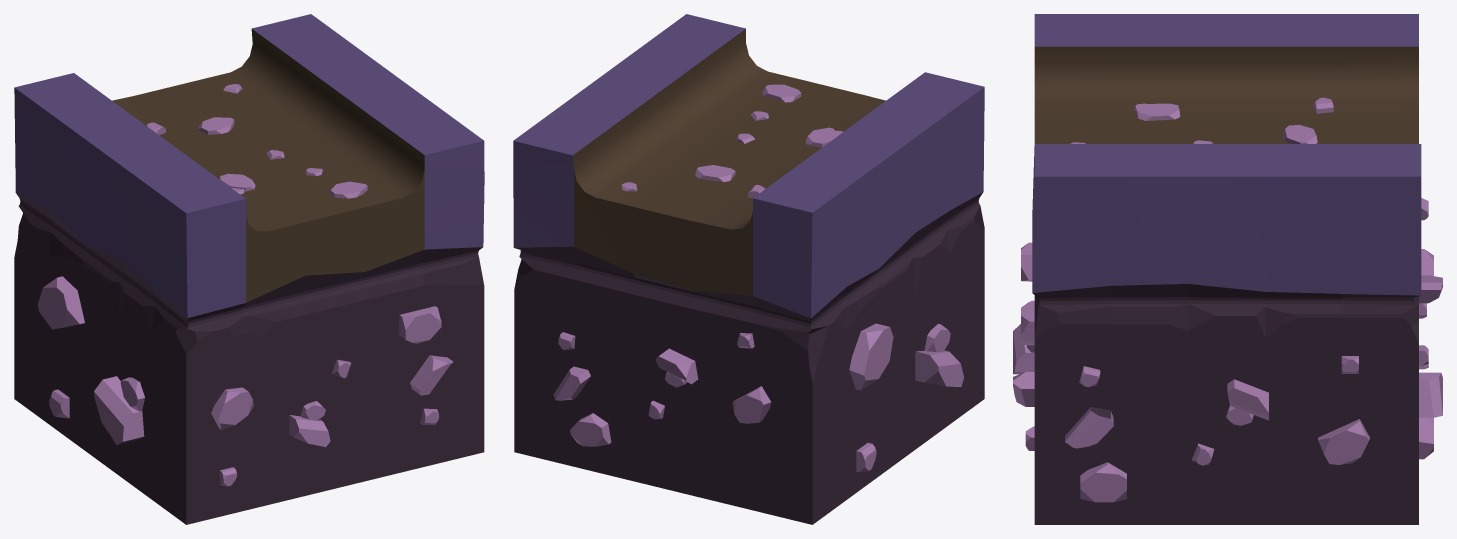
File: RoadStraight.fbx
3 renders of one model, left to right at view 1: azimuth 30°, elevation 25°; view 2: azimuth 150°, elevation 25°; view 3: azimuth 270°, elevation 25°, orthographic. The views are drawn at different scales.
Visible parts, largest first — view 1: RoadF; view 2: RoadF; view 3: RoadF.
Boxes of the visible parts, x1=… form: RoadF: x1=14, y1=14, x2=484, y2=524; RoadF: x1=513, y1=14, x2=984, y2=524; RoadF: x1=1013, y1=14, x2=1442, y2=524.
Bounding box in the file's own units: 227 × 200 × 224.
